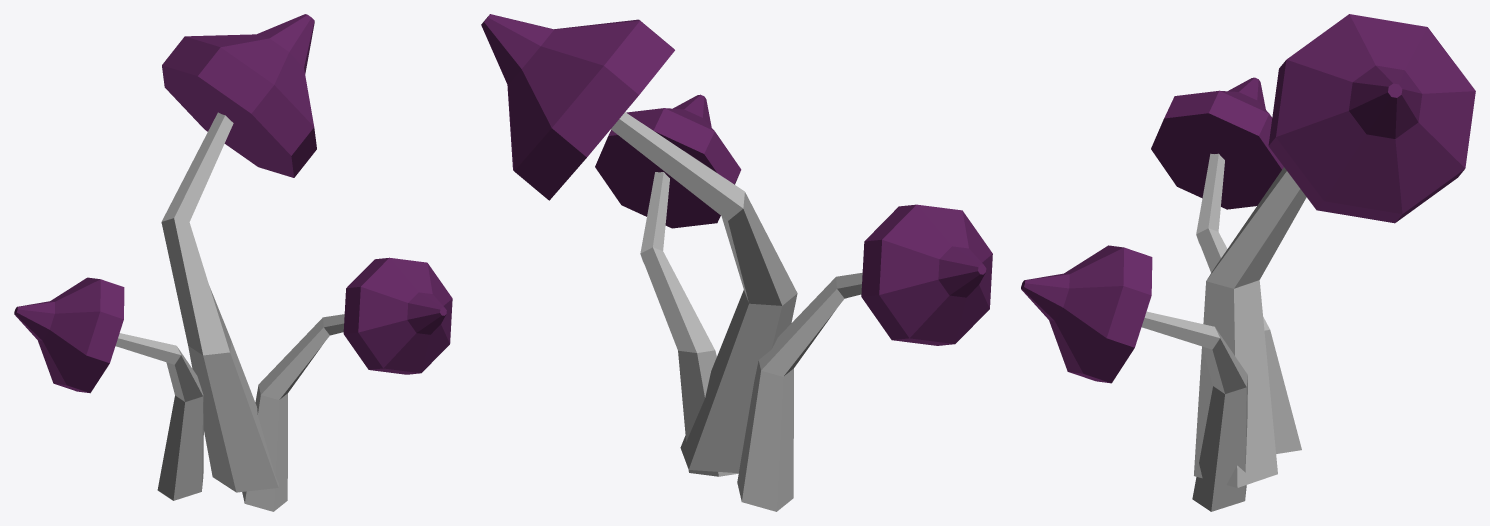
File: Mushroom_01.fbx
3 renders of one model, left to right at view 1: azimuth 30°, elevation 25°; view 2: azimuth 150°, elevation 25°; view 3: azimuth 270°, elevation 25°, orthographic. The views are drawn at different scales.
Parts seen in each view (by area): view 1: Mushroom_01; view 2: Mushroom_01; view 3: Mushroom_01.
Part boxes in pixels (box(x1,y1,x2,y2)): Mushroom_01: box(14, 14, 452, 511); Mushroom_01: box(481, 14, 992, 511); Mushroom_01: box(1021, 14, 1475, 511).
Bounding box in the file's own units: 148 × 156 × 130.
